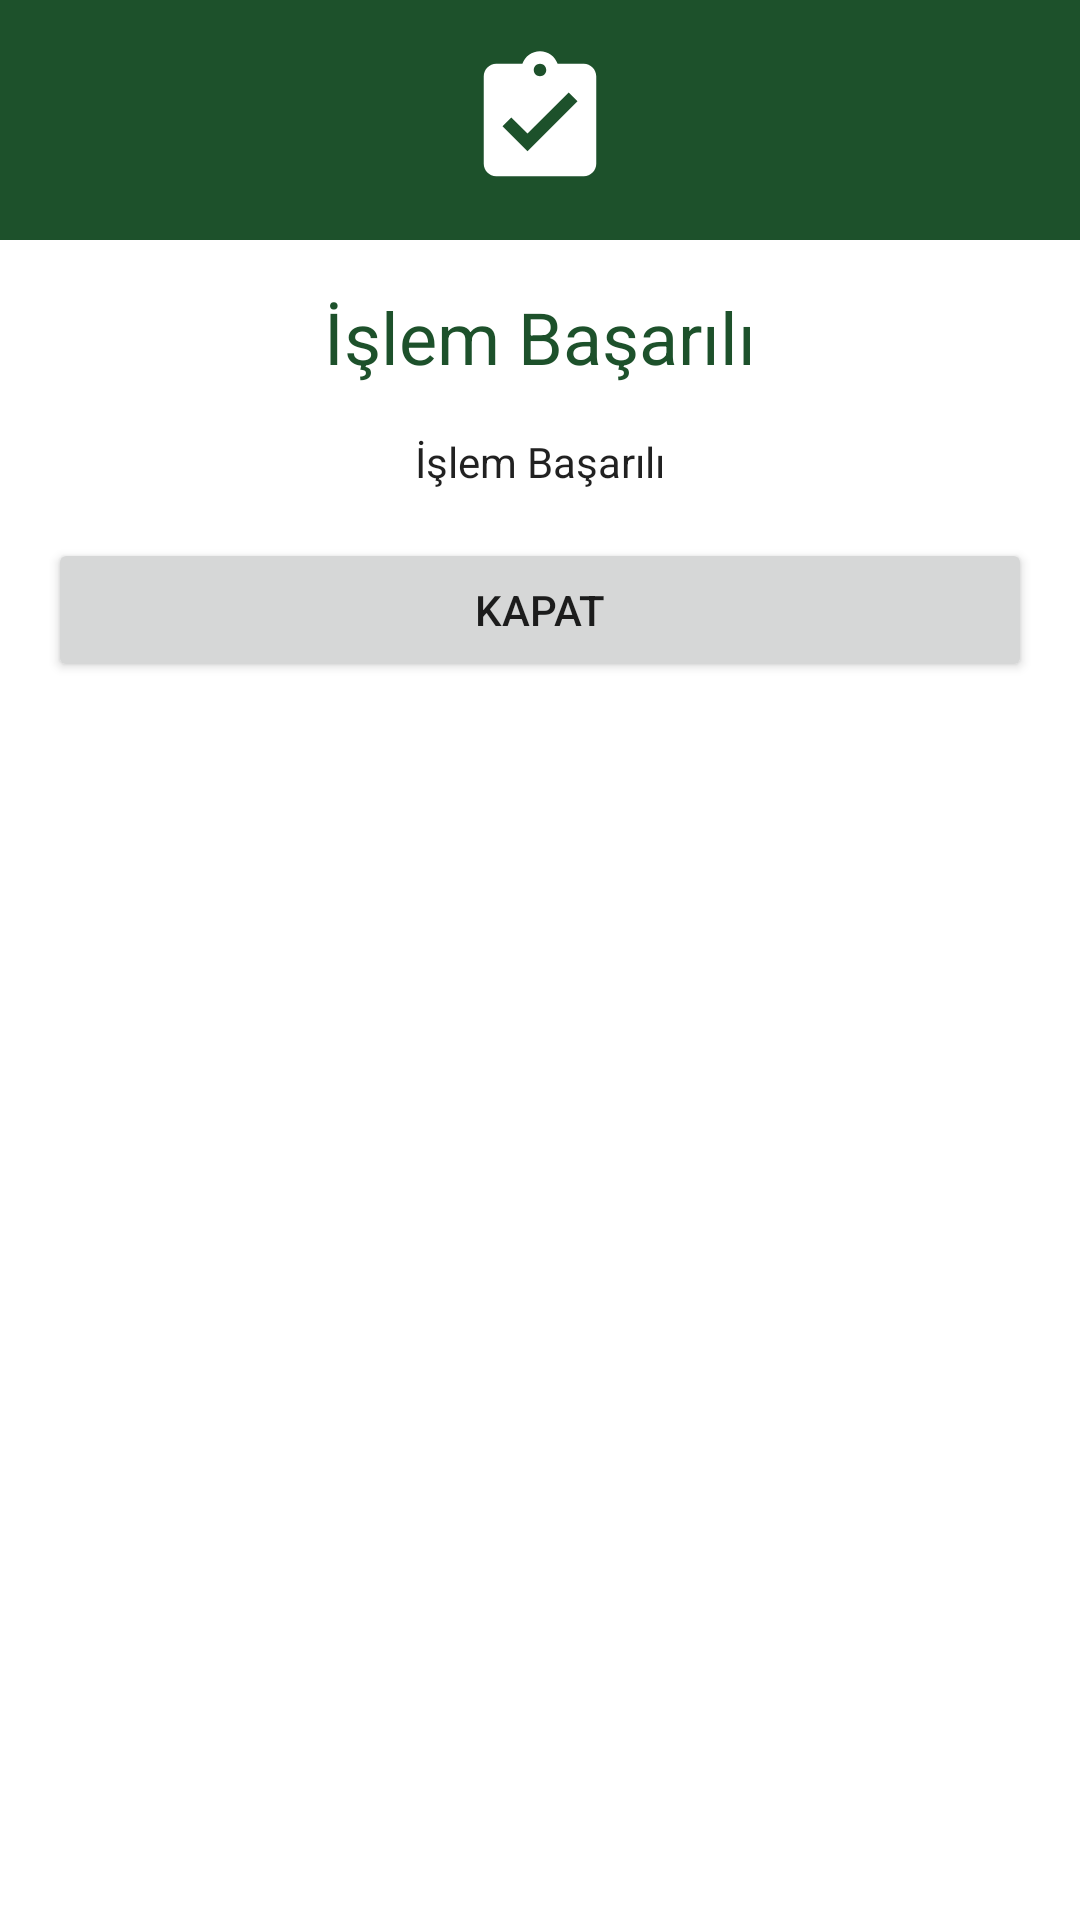

Icons on this 1080 × 1920 Android screen, each with its box as {"left": x1, "top": y1, "right": x2, "bottom": y2}:
assignment turned in: {"left": 483, "top": 51, "right": 597, "bottom": 177}
